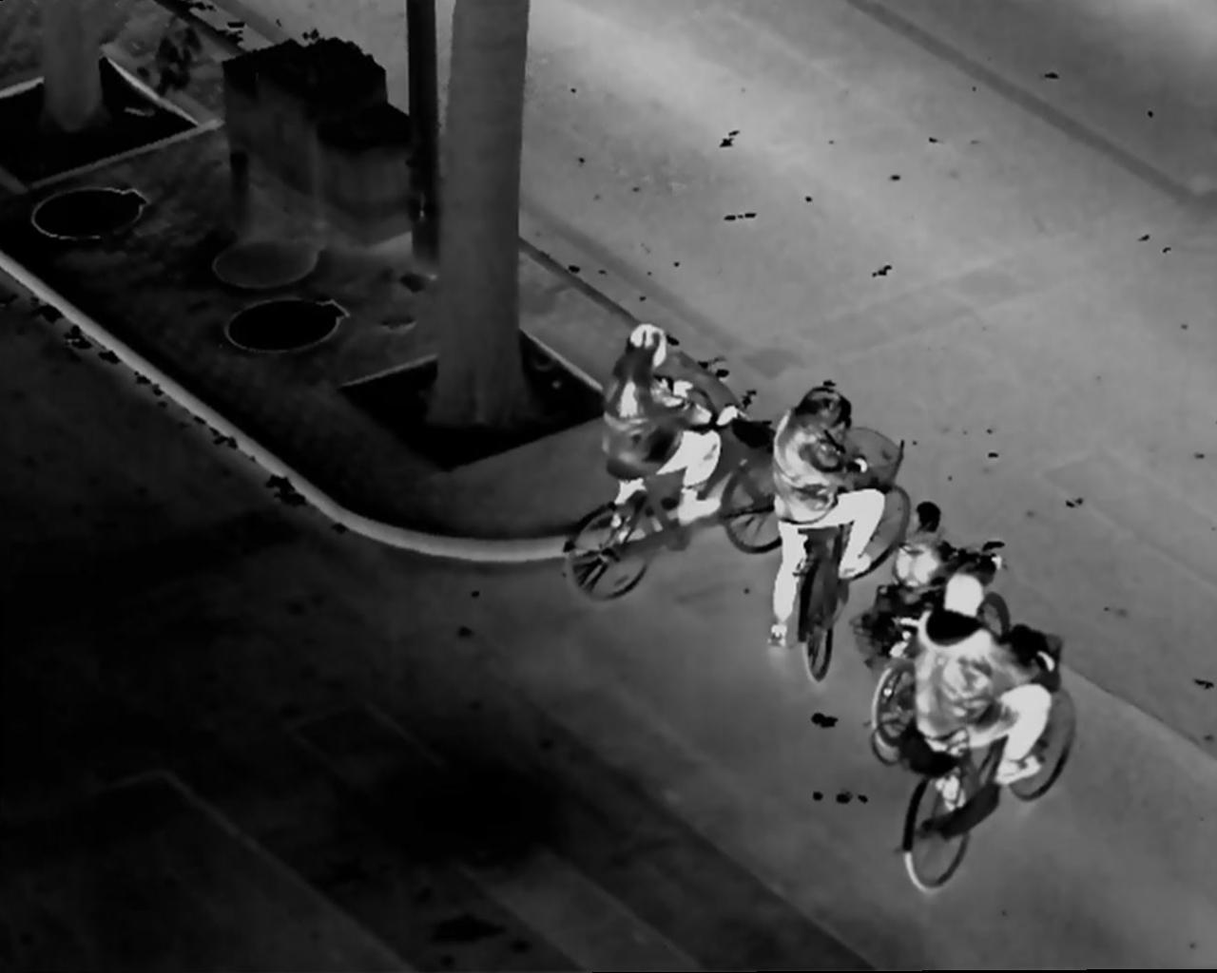person: (913, 576, 1052, 812), (766, 383, 885, 649), (608, 322, 738, 528), (896, 494, 957, 656)
